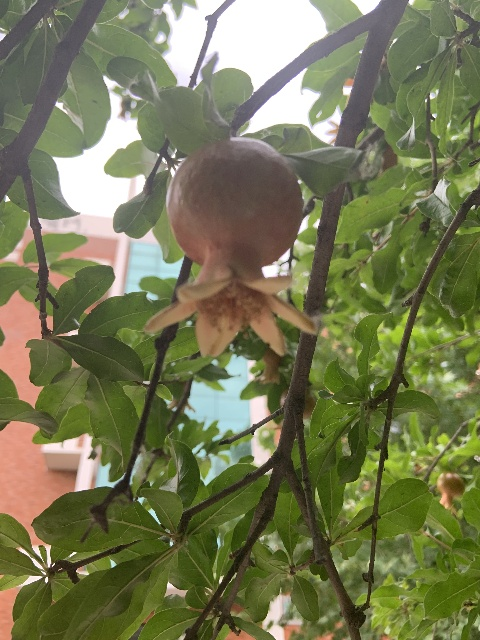early-fruit: (143, 137, 317, 359), (436, 470, 464, 510), (252, 349, 282, 384)
